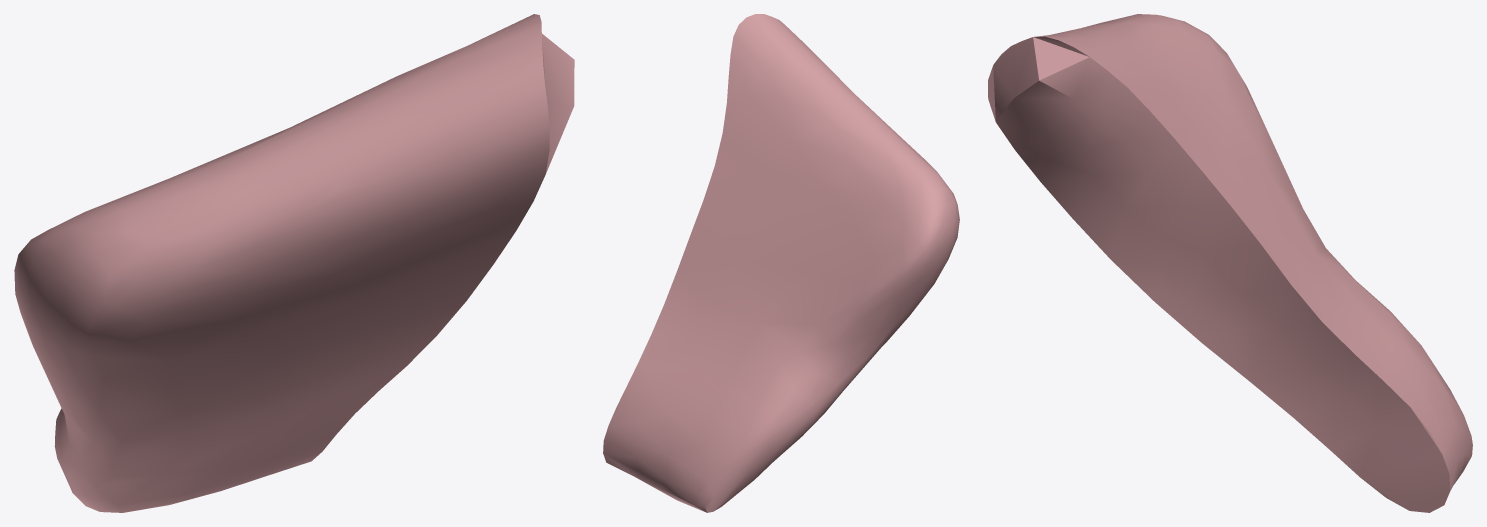
The model's file is fma275397_mm3765m.glb.
The picture shows the model from 3 angles, left to right: view 1: azimuth 30°, elevation 25°; view 2: azimuth 150°, elevation 25°; view 3: azimuth 270°, elevation 25°; orthographic projection. The views are drawn at different scales.
Parts seen in each view (by area): view 1: FMA275397_MM3765M; view 2: FMA275397_MM3765M; view 3: FMA275397_MM3765M.
Boxes of the visible parts, left/top/right/bottom form: FMA275397_MM3765M: left=14, top=14, right=574, bottom=512; FMA275397_MM3765M: left=603, top=14, right=959, bottom=512; FMA275397_MM3765M: left=988, top=14, right=1472, bottom=512.
Bounding box in the file's own units: 0.0145 × 0.0194 × 0.0173.
